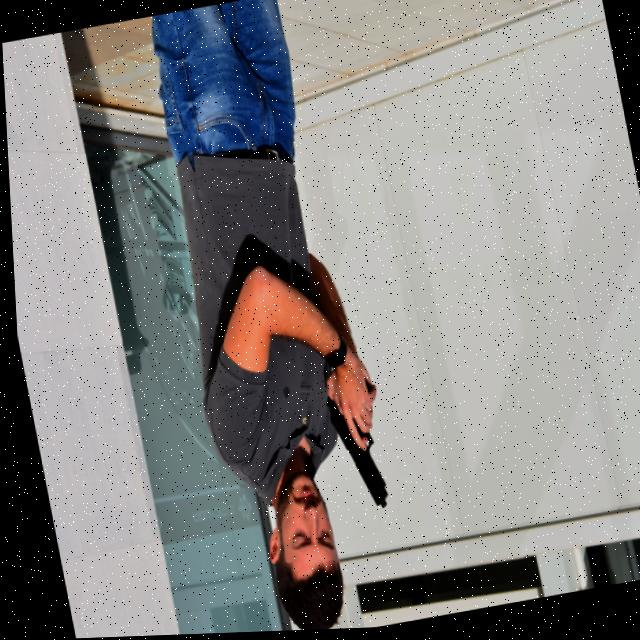pistol: (319, 395, 384, 518)
